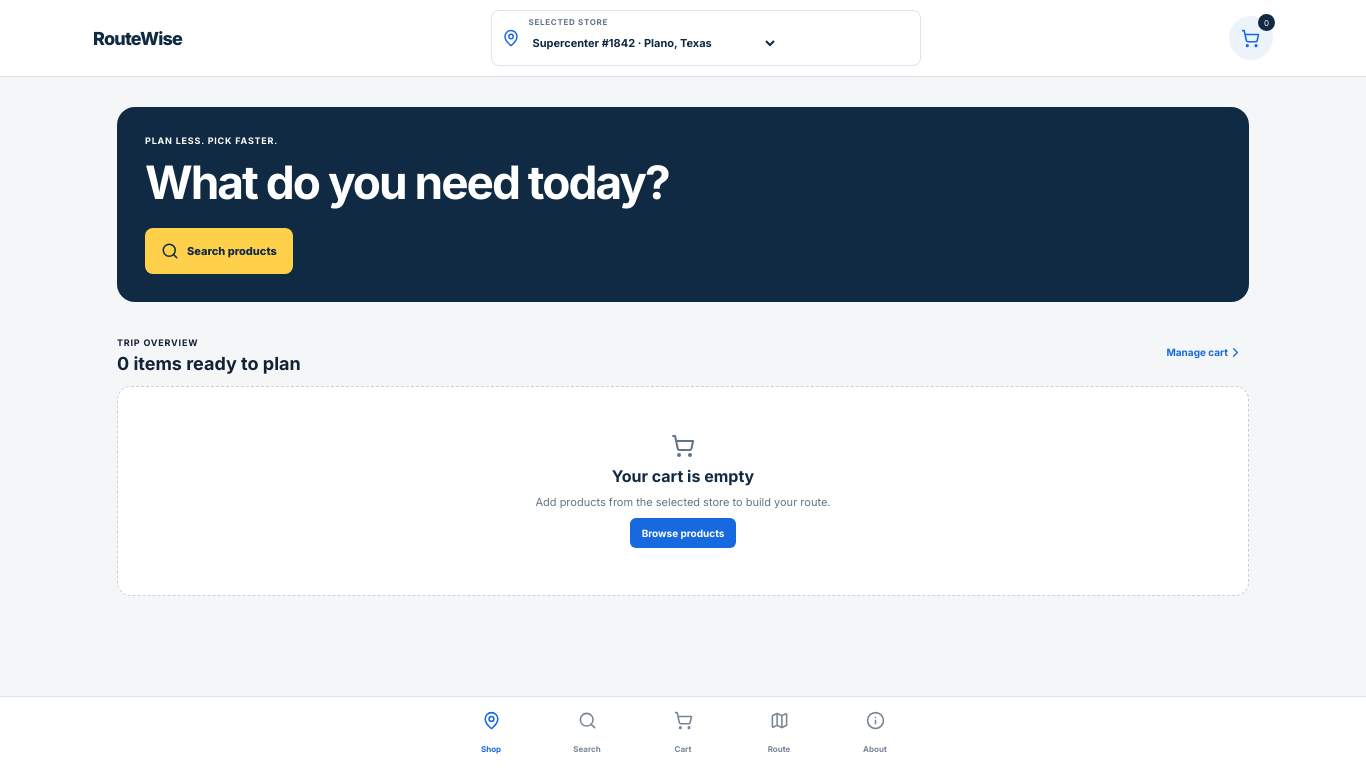
mobile shopping journey › renders a customer-friendly store map with landmarks and a legend
Click the button "Search". click: (587, 732)
box: [551,704,623,761]
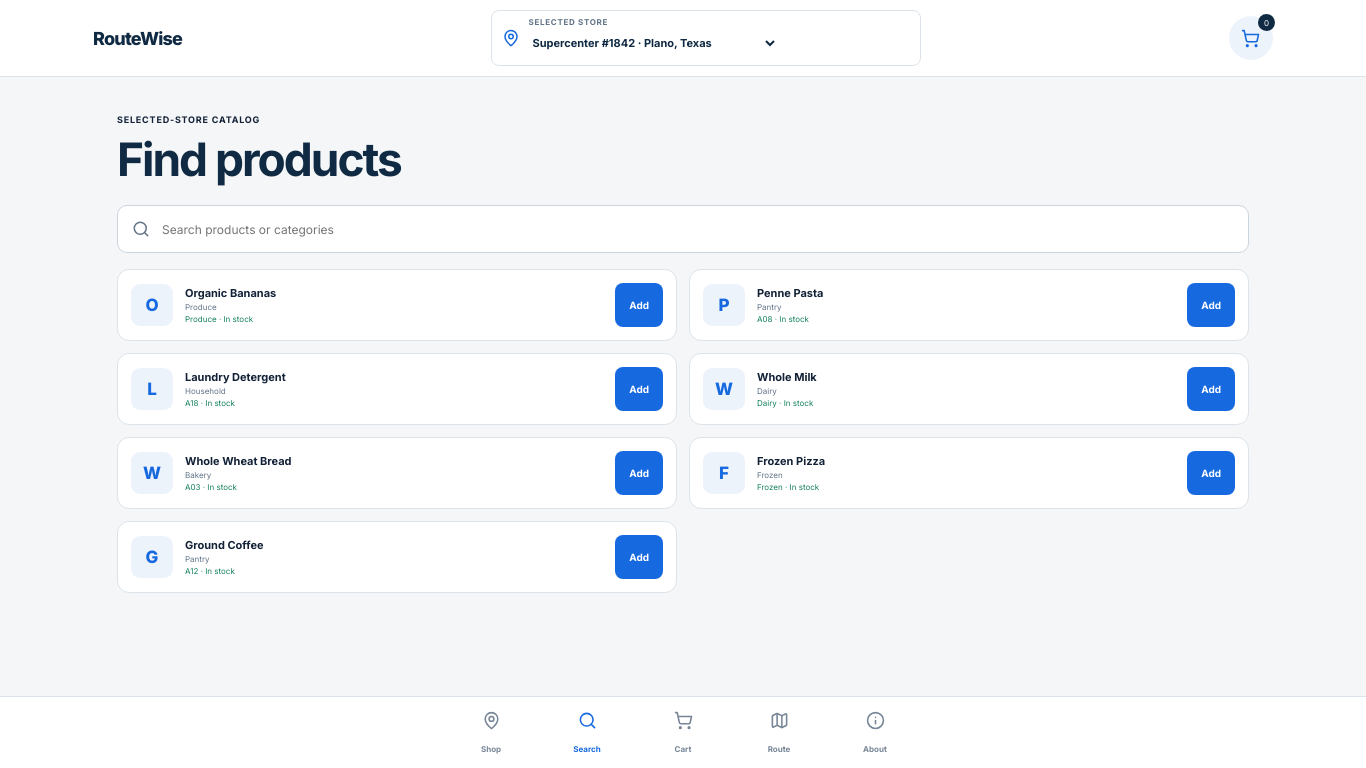
Click the button with aria-label "Add Organic Bananas". click: (639, 305)
box: [615,283,663,327]
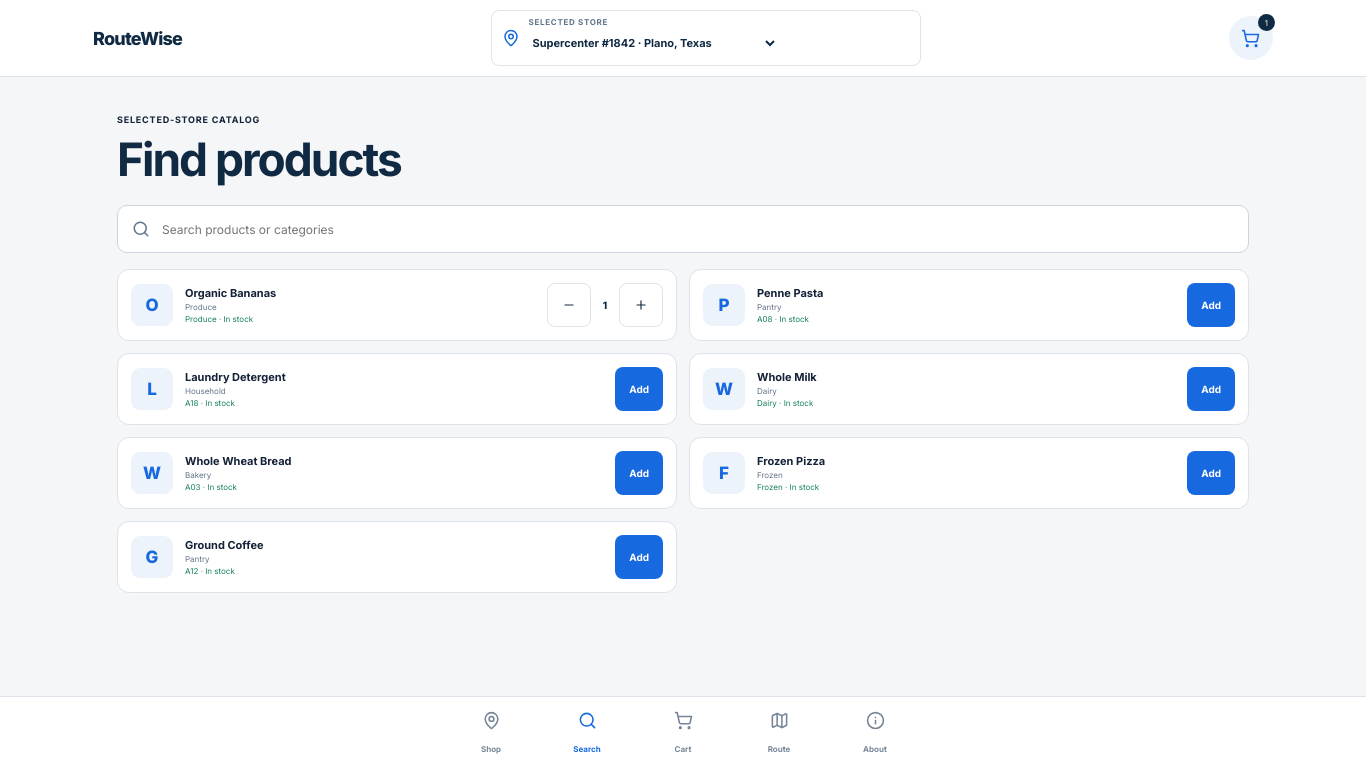
Click the button "Route". click: (779, 732)
box: [743,704,815,761]
(page scrolled)
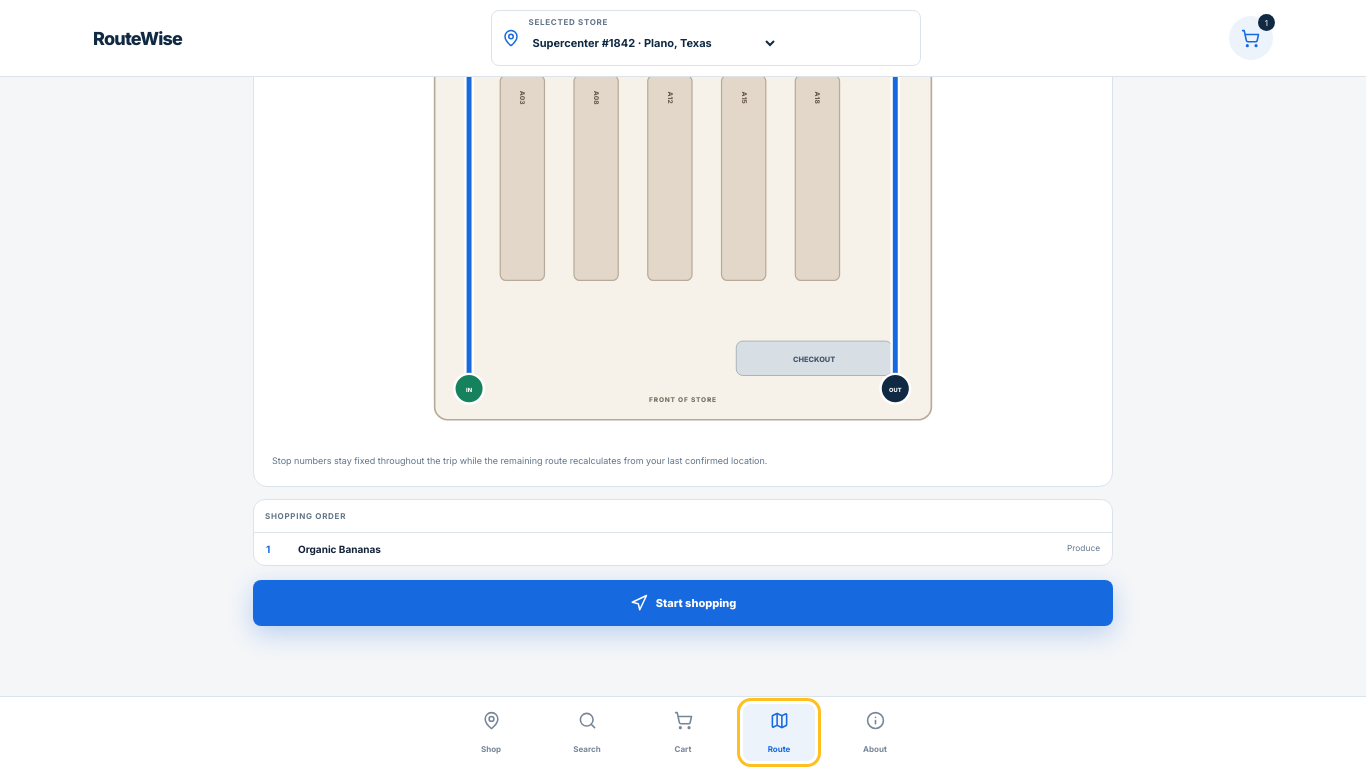
Expected: the text "Stop numbers stay fixed throughout the trip" is shown, [272,455,767,466]
